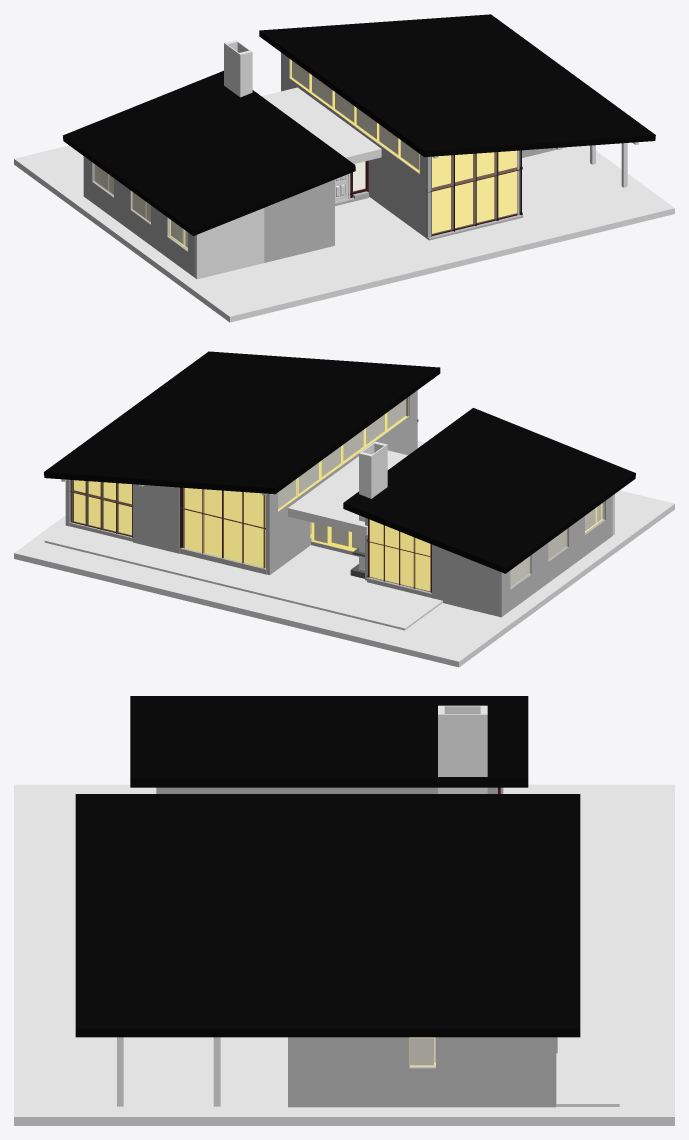
Rendered from House15.glb.
The picture shows the model from 3 angles, top to bottom: view 1: azimuth 30°, elevation 25°; view 2: azimuth 150°, elevation 25°; view 3: azimuth 270°, elevation 25°; orthographic projection. The views are drawn at different scales.
Visible parts, largest first — view 1: Wall01; view 2: Wall01; view 3: Wall01.
Part boxes in pixels (box(x1,y1,x2,y2)): Wall01: box(14, 14, 674, 322); Wall01: box(14, 351, 674, 667); Wall01: box(14, 696, 674, 1125).
Bounding box in the file's own units: 23.96 × 6.67 × 20.08.
